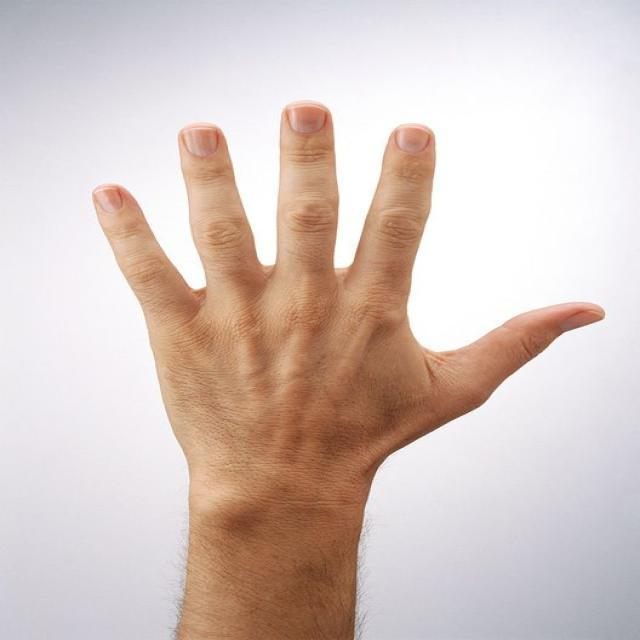Fingernail: (287, 106, 327, 135), (561, 310, 605, 333), (184, 128, 218, 157), (396, 127, 431, 155), (95, 187, 124, 216)
